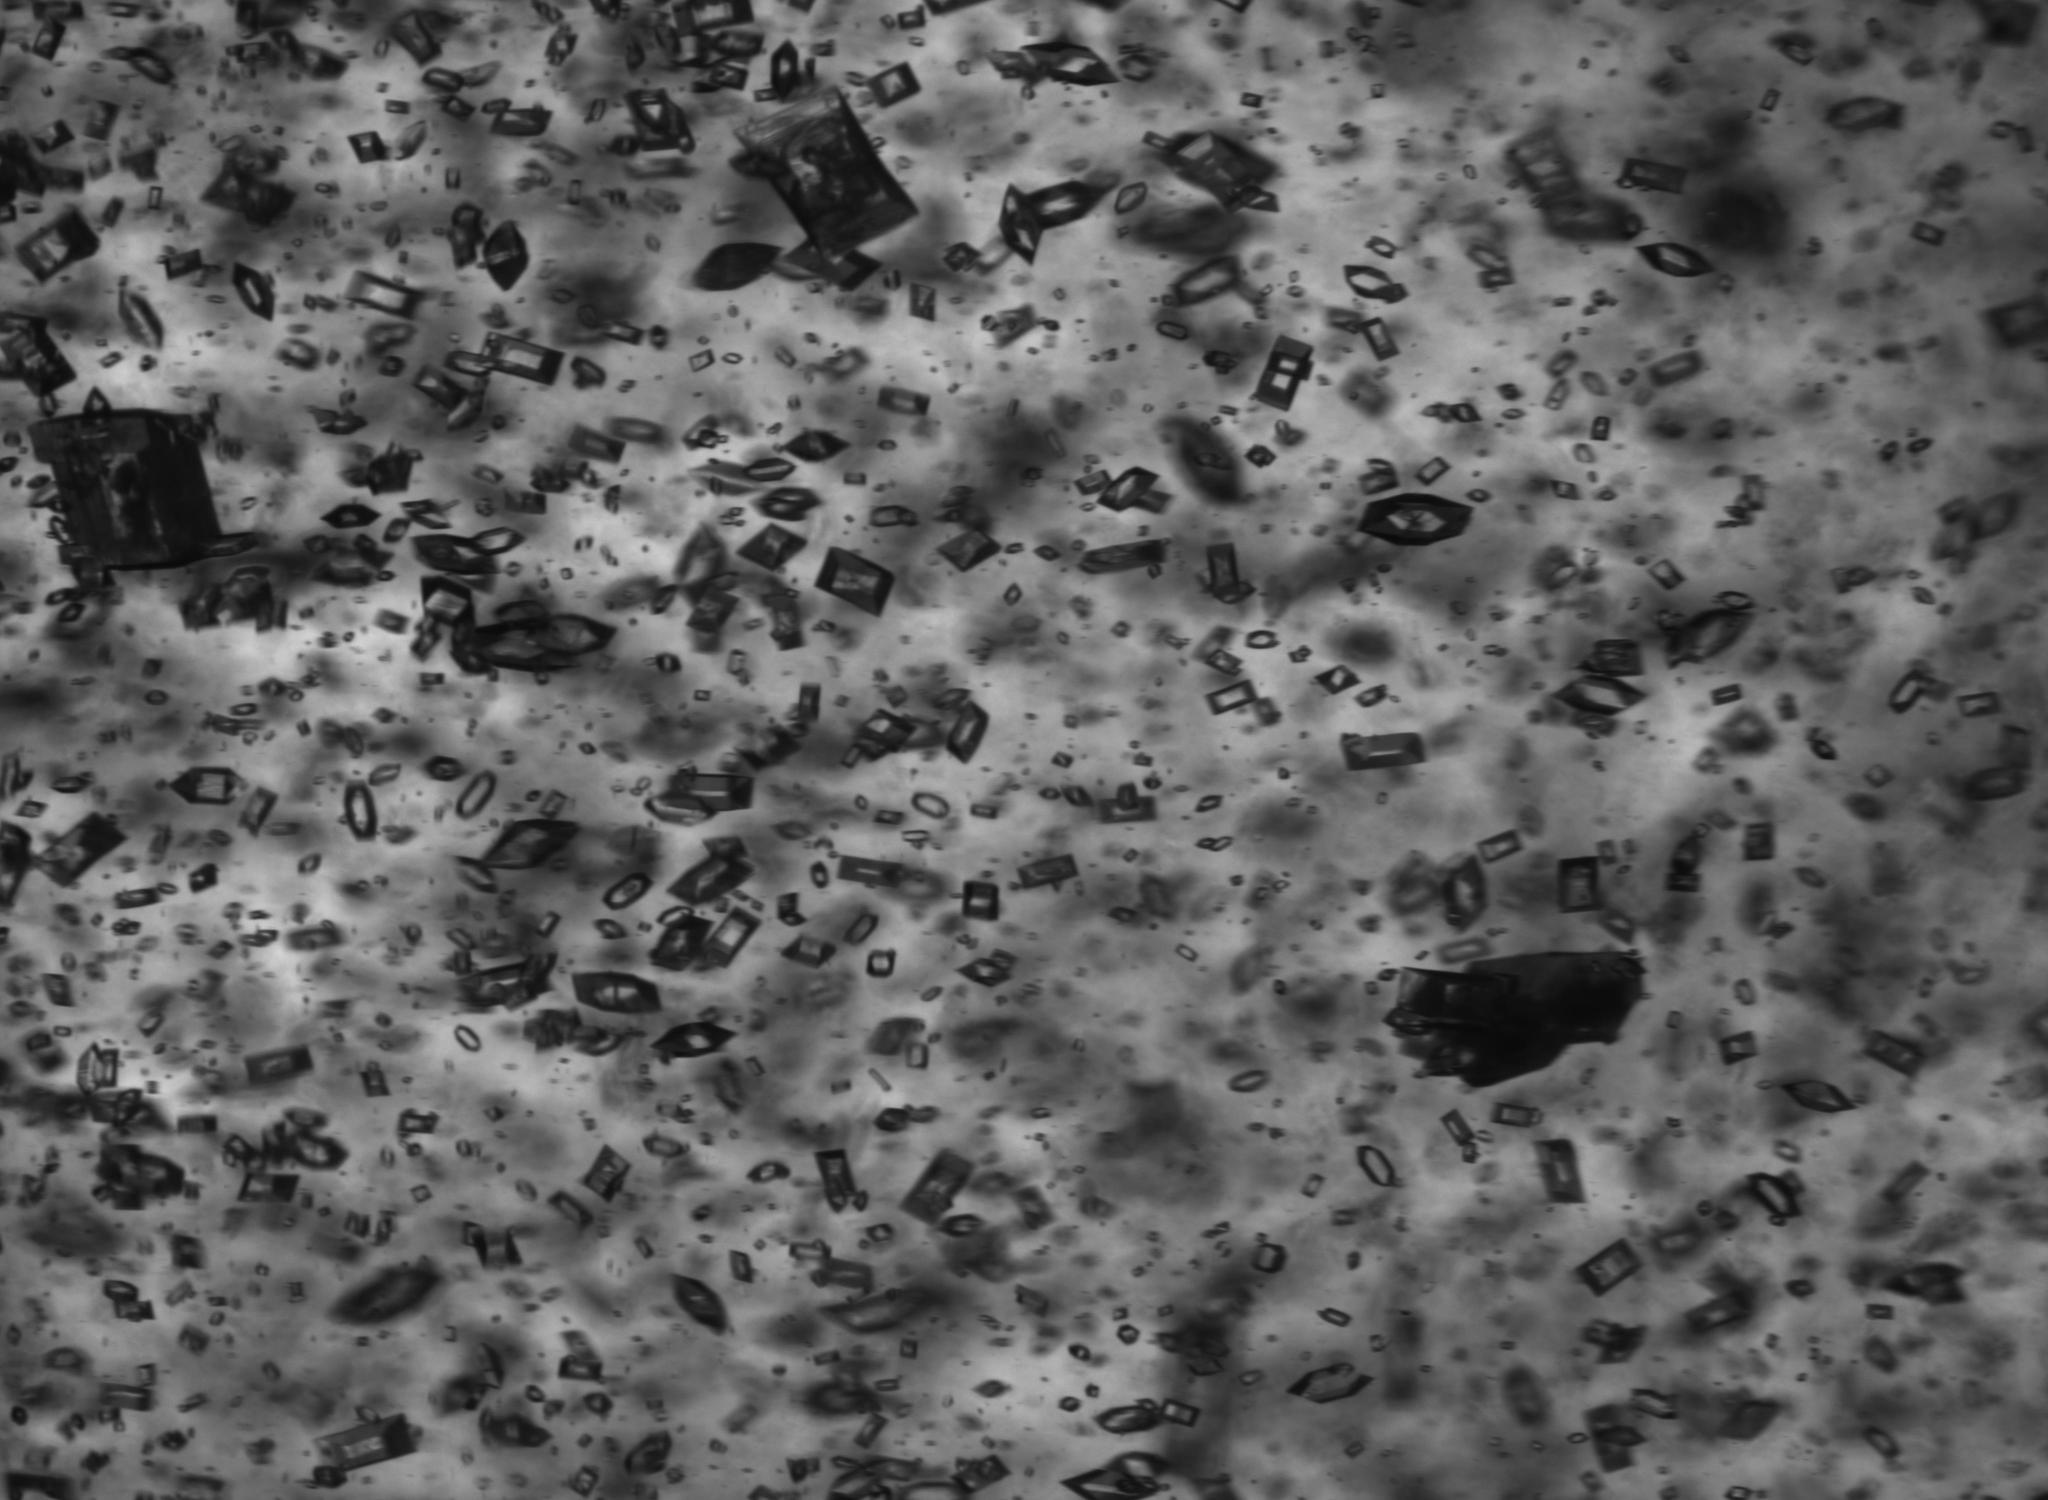crystal: (1385, 951, 1644, 1088), (30, 407, 239, 571), (736, 89, 917, 259), (1148, 130, 1275, 213), (450, 614, 619, 673), (999, 181, 1108, 262), (0, 132, 81, 226), (35, 811, 132, 889), (665, 834, 757, 905), (641, 771, 755, 829), (0, 312, 75, 399), (460, 818, 579, 872), (313, 1411, 420, 1470), (460, 950, 560, 1012), (94, 1144, 184, 1212), (16, 208, 100, 282), (782, 232, 884, 293), (1358, 493, 1472, 546), (992, 38, 1118, 86), (900, 1150, 975, 1226), (816, 547, 894, 616), (412, 527, 526, 573), (620, 86, 696, 154), (1059, 1455, 1173, 1500), (1666, 611, 1751, 670), (475, 331, 564, 387), (690, 905, 763, 970), (1251, 336, 1313, 410), (692, 243, 784, 293), (728, 522, 809, 576), (647, 907, 712, 973), (1867, 1261, 1964, 1304), (1553, 673, 1649, 716), (345, 270, 428, 320), (1285, 1362, 1375, 1405), (571, 970, 661, 1013), (1576, 1239, 1644, 1295), (733, 724, 808, 775), (1328, 309, 1398, 361), (1096, 1398, 1199, 1433), (671, 0, 758, 41), (1441, 857, 1487, 935), (418, 569, 475, 631), (116, 275, 164, 348), (386, 8, 445, 67), (814, 1148, 867, 1214), (167, 767, 250, 808), (1340, 732, 1426, 771), (1534, 1139, 1585, 1204), (458, 1222, 525, 1271), (1616, 154, 1692, 197), (482, 221, 529, 290), (245, 1042, 315, 1088), (1075, 539, 1167, 574), (646, 1021, 736, 1056), (1635, 240, 1717, 278), (1175, 255, 1237, 305), (676, 1273, 728, 1331), (1204, 542, 1255, 603), (580, 1144, 630, 1206), (1824, 95, 1903, 134), (1862, 1031, 1927, 1077), (682, 585, 739, 638), (1097, 464, 1156, 515), (854, 709, 917, 756), (944, 705, 991, 768), (447, 200, 487, 274), (1584, 1320, 1649, 1365), (760, 590, 806, 652), (410, 364, 469, 412), (938, 525, 999, 571), (1099, 781, 1159, 827), (1557, 856, 1603, 916), (561, 423, 625, 466), (1779, 1078, 1856, 1113), (370, 445, 423, 496), (946, 1455, 1013, 1495), (1747, 1172, 1805, 1218), (752, 485, 820, 523), (952, 948, 1018, 988), (782, 428, 852, 464), (231, 262, 275, 320), (1577, 641, 1644, 678), (868, 62, 921, 108), (76, 1042, 119, 1098), (485, 105, 555, 138), (1344, 266, 1407, 302), (875, 380, 932, 420), (1018, 853, 1080, 889), (1202, 681, 1263, 717), (455, 770, 498, 821), (234, 1172, 299, 1206), (1649, 348, 1703, 388), (766, 37, 800, 100), (835, 856, 905, 886), (776, 934, 836, 967), (239, 786, 277, 838), (545, 1190, 595, 1230), (103, 1284, 159, 1319), (603, 872, 654, 910), (345, 783, 377, 843), (25, 14, 65, 62), (1887, 670, 1926, 719), (1352, 1145, 1394, 1188), (1441, 1106, 1480, 1152), (127, 48, 175, 86), (293, 1131, 342, 1168), (80, 100, 122, 142), (345, 130, 390, 170), (29, 119, 75, 157), (1477, 829, 1523, 867), (1719, 1029, 1762, 1069), (391, 119, 429, 164), (964, 876, 1000, 923), (1113, 180, 1159, 216), (474, 1341, 506, 1390), (323, 503, 380, 530), (738, 458, 795, 485), (402, 499, 453, 530), (566, 355, 606, 393), (1358, 460, 1399, 496), (1313, 665, 1363, 695), (1628, 1389, 1674, 1420), (838, 913, 878, 950), (1956, 689, 2003, 719), (851, 1413, 889, 1449), (1248, 1239, 1288, 1274), (162, 248, 205, 280), (420, 756, 469, 783), (1490, 1101, 1536, 1129), (114, 884, 162, 911), (313, 410, 367, 434), (1412, 457, 1452, 488), (1671, 837, 1703, 876), (445, 350, 498, 374), (911, 791, 952, 821), (908, 282, 938, 323), (1129, 487, 1172, 515), (40, 973, 75, 1008), (100, 1382, 151, 1406), (33, 0, 84, 24), (943, 242, 981, 274), (601, 321, 646, 348), (72, 563, 116, 590), (1644, 560, 1684, 590), (1118, 54, 1159, 83), (641, 1136, 690, 1160), (870, 504, 919, 528), (566, 1465, 599, 1500), (1073, 469, 1116, 496), (938, 1214, 986, 1238), (1014, 1287, 1048, 1320), (223, 1133, 258, 1164), (227, 40, 273, 64), (421, 67, 464, 92), (1746, 822, 1775, 861), (711, 62, 749, 91), (361, 1067, 394, 1099), (502, 492, 547, 515), (261, 1121, 285, 1166), (1546, 562, 1581, 592), (1860, 760, 1895, 791), (560, 1358, 603, 1382), (797, 684, 822, 724), (1204, 651, 1243, 676), (537, 787, 569, 819), (871, 1106, 908, 1133), (779, 892, 808, 926), (1709, 681, 1743, 709), (1226, 1069, 1266, 1093), (442, 95, 477, 122), (1480, 264, 1517, 290), (57, 544, 99, 566), (1185, 1355, 1226, 1378), (186, 864, 215, 896), (1910, 223, 1948, 247), (1741, 474, 1765, 512), (1363, 234, 1398, 259), (747, 1161, 790, 1182), (1350, 682, 1387, 706), (176, 1113, 218, 1134), (137, 1008, 164, 1039), (865, 950, 895, 977), (402, 1112, 439, 1134), (897, 5, 929, 30), (367, 764, 401, 787), (1154, 320, 1193, 340), (790, 1242, 832, 1261), (973, 1378, 1008, 1400), (1318, 1306, 1353, 1328), (688, 348, 717, 375), (1297, 1171, 1325, 1199), (452, 1028, 482, 1053), (1043, 428, 1067, 460), (544, 33, 577, 56), (536, 911, 563, 938), (49, 776, 91, 794), (728, 1253, 752, 1284), (1245, 444, 1275, 468), (382, 519, 412, 542), (808, 859, 830, 891), (863, 1222, 897, 1242), (1732, 978, 1757, 1005), (1449, 402, 1484, 422), (1194, 835, 1232, 853), (1666, 873, 1701, 892), (1061, 786, 1092, 806), (444, 927, 475, 948), (582, 1392, 614, 1413), (595, 918, 626, 938), (840, 744, 867, 768), (1720, 593, 1754, 612), (906, 1040, 927, 1071), (655, 654, 685, 674), (1245, 630, 1277, 649), (1202, 348, 1231, 369), (1002, 582, 1024, 608), (135, 1363, 156, 1390), (1590, 414, 1611, 441), (207, 938, 234, 959), (1757, 89, 1781, 111), (1115, 1325, 1138, 1347), (773, 345, 797, 367), (884, 686, 908, 708), (1194, 795, 1224, 813), (17, 802, 48, 819), (301, 534, 331, 552), (59, 603, 84, 624), (633, 1234, 654, 1260), (1553, 482, 1581, 501), (1048, 751, 1075, 770), (410, 1183, 434, 1204), (1813, 738, 1837, 759), (297, 853, 321, 873), (813, 1350, 843, 1366), (107, 5, 140, 19), (1867, 1303, 1894, 1320), (1239, 1370, 1266, 1387), (1496, 383, 1523, 401), (353, 531, 375, 552), (587, 99, 607, 121), (744, 1055, 765, 1077), (881, 267, 902, 290), (873, 811, 905, 826), (1288, 644, 1312, 663), (480, 1104, 504, 1123), (695, 429, 719, 449), (1342, 1440, 1366, 1459), (383, 99, 409, 116), (218, 135, 243, 153), (1910, 587, 1935, 604), (1059, 1395, 1081, 1414), (1175, 943, 1197, 962), (1240, 91, 1264, 108), (99, 352, 122, 369), (902, 829, 930, 843), (898, 1336, 916, 1358), (1666, 1008, 1684, 1031), (372, 706, 394, 724), (549, 290, 576, 304), (972, 805, 995, 821), (1035, 546, 1059, 562), (145, 689, 169, 705), (1908, 437, 1932, 453), (447, 164, 461, 189), (1110, 620, 1131, 638), (420, 671, 444, 686), (755, 87, 779, 102), (568, 180, 582, 204), (294, 719, 312, 738), (922, 986, 941, 1004), (455, 951, 471, 972), (830, 1080, 851, 1096), (1070, 1344, 1091, 1360), (876, 1379, 902, 1392), (1367, 1335, 1385, 1352), (576, 1432, 593, 1449), (148, 186, 161, 210), (844, 472, 868, 485), (1145, 563, 1164, 579), (722, 352, 744, 364), (232, 703, 254, 716), (1468, 490, 1488, 503), (981, 315, 997, 331), (1029, 1107, 1051, 1118), (876, 439, 897, 450), (458, 1139, 472, 1155), (1158, 1304, 1173, 1319), (1371, 83, 1385, 99), (1461, 164, 1477, 178), (1084, 1384, 1100, 1398), (528, 1385, 542, 1401), (54, 1024, 72, 1037), (693, 689, 711, 701), (1038, 789, 1061, 799), (1134, 756, 1153, 767), (1218, 404, 1237, 415), (1501, 409, 1523, 418), (1286, 269, 1301, 283), (444, 1325, 456, 1341), (1111, 1308, 1127, 1320), (579, 743, 595, 756), (1258, 283, 1274, 296), (1566, 1433, 1587, 1443), (1005, 544, 1022, 555), (313, 183, 331, 192), (1056, 631, 1069, 644), (377, 571, 393, 581), (561, 568, 572, 579)
